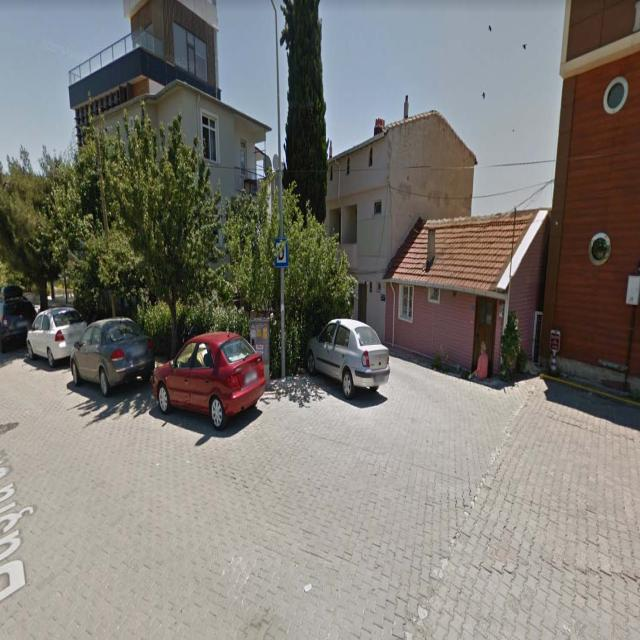durak: (273, 238, 288, 268)
